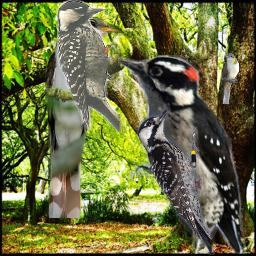Cuckoo: (43, 15, 125, 218), (221, 53, 239, 104)
Woodpecker: (118, 55, 247, 254), (137, 107, 214, 255), (57, 0, 126, 135)
